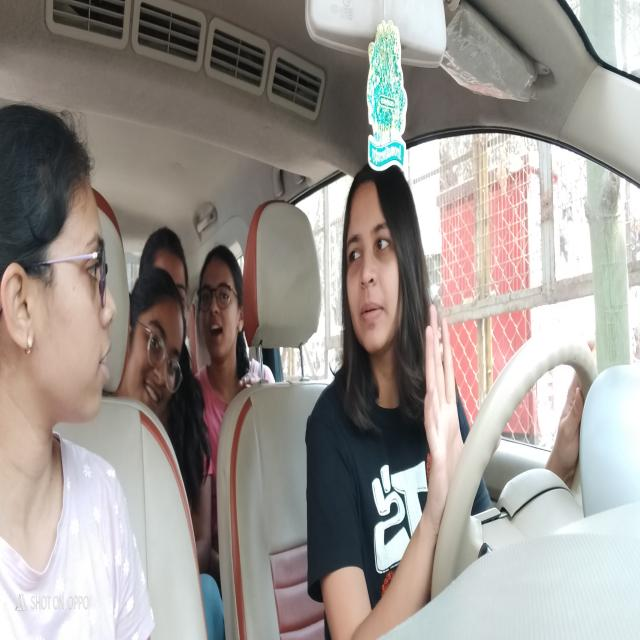LeftRight: (336, 156, 434, 412)
person: (0, 84, 118, 437), (126, 265, 181, 425), (197, 243, 245, 371), (141, 225, 190, 280)
